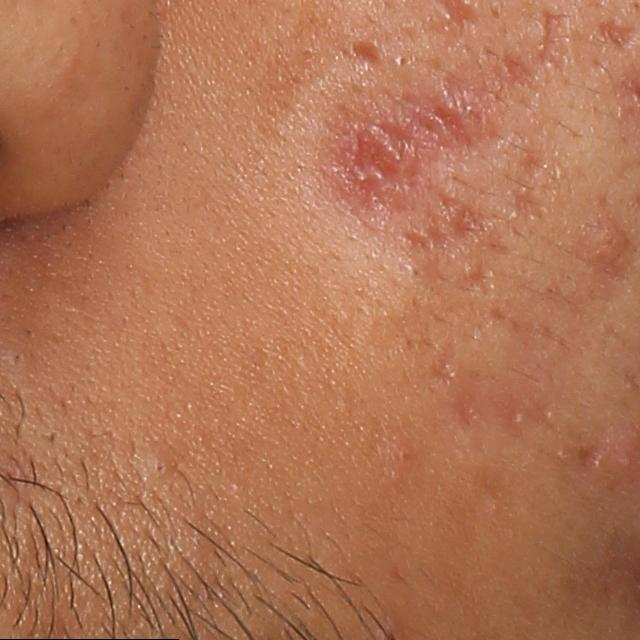atrophic_scar: (324, 9, 573, 215), (401, 193, 483, 249), (570, 428, 608, 481), (452, 256, 497, 296), (514, 183, 550, 220), (346, 40, 388, 71), (454, 392, 482, 437), (429, 349, 461, 383), (488, 306, 507, 322)
comedo: (148, 453, 174, 480)
papule: (580, 218, 637, 263)
